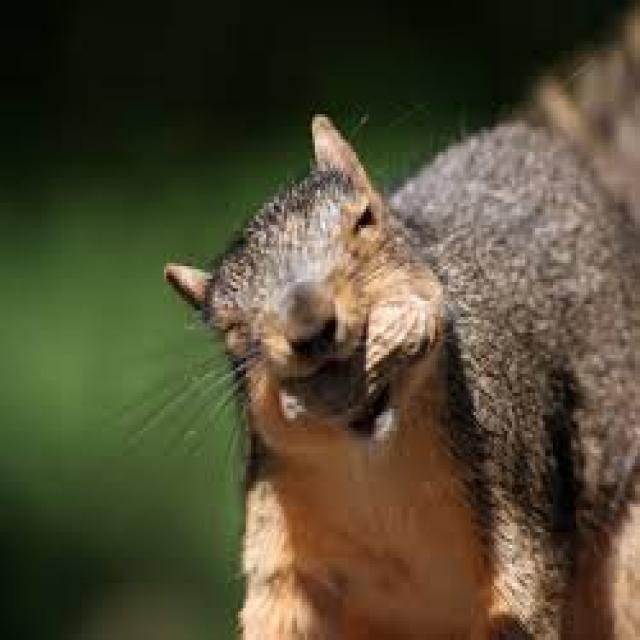Squirrel: (158, 107, 640, 640)
